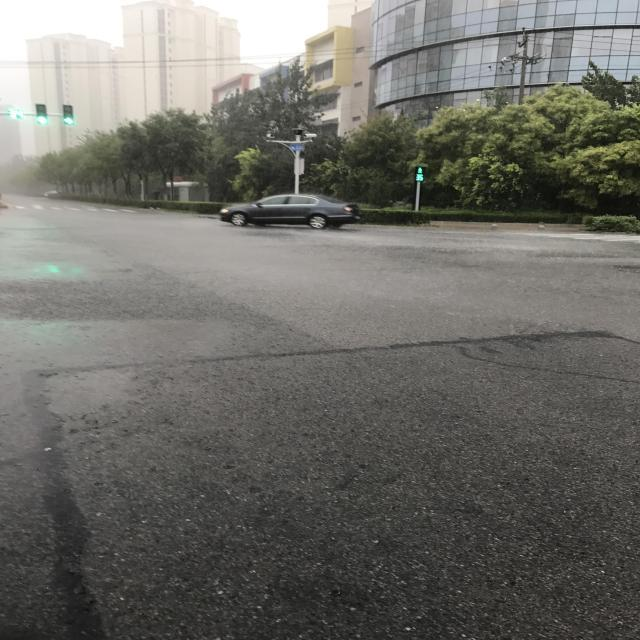car: (193, 280, 228, 420)
